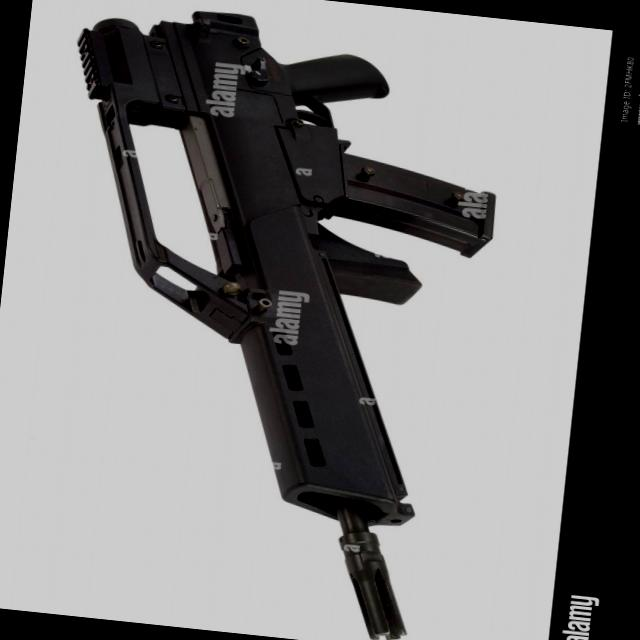long weapon: (29, 0, 555, 628)
